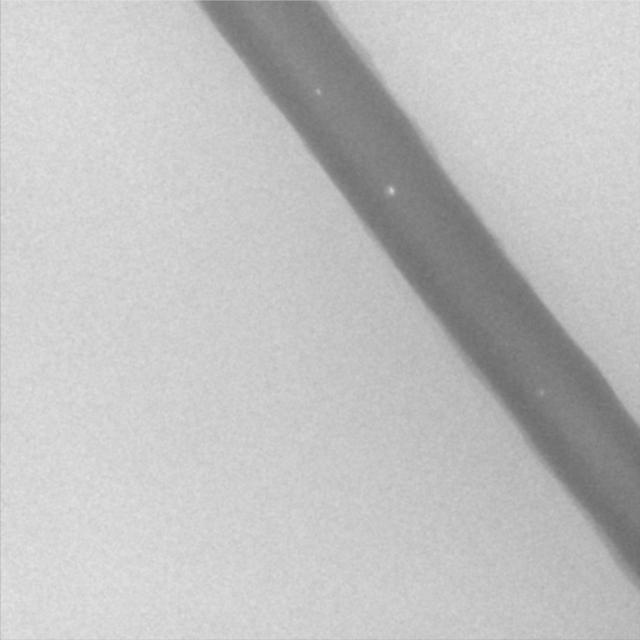air hole: (385, 185, 396, 197), (314, 85, 322, 94)
